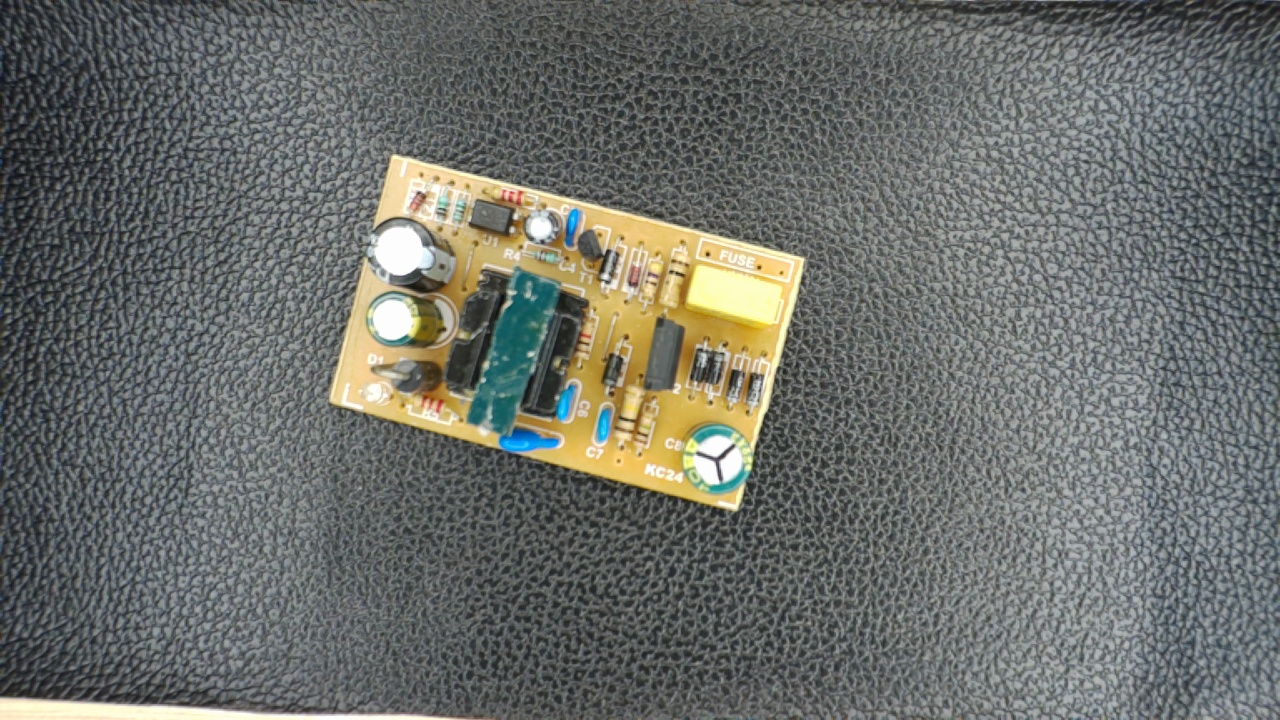hv_capacitor: (681, 419, 755, 495)
mov: (492, 425, 564, 455)
optocoupler: (465, 197, 524, 236)
